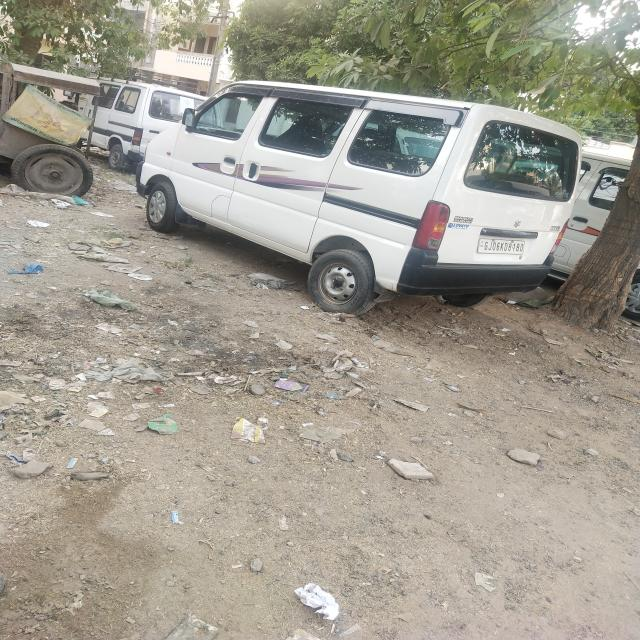Traveller: (93, 80, 630, 314)
